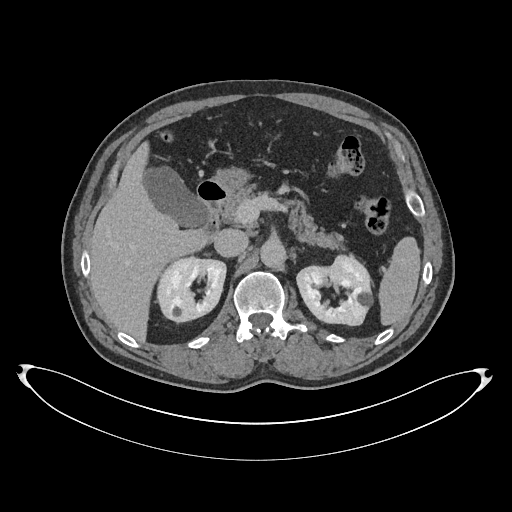Lesion: (357, 294, 377, 310)
